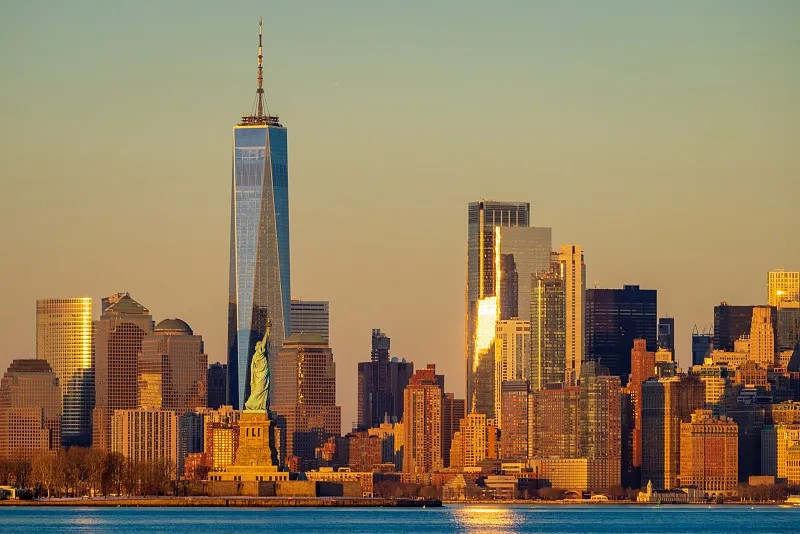SL: (234, 319, 280, 466)
